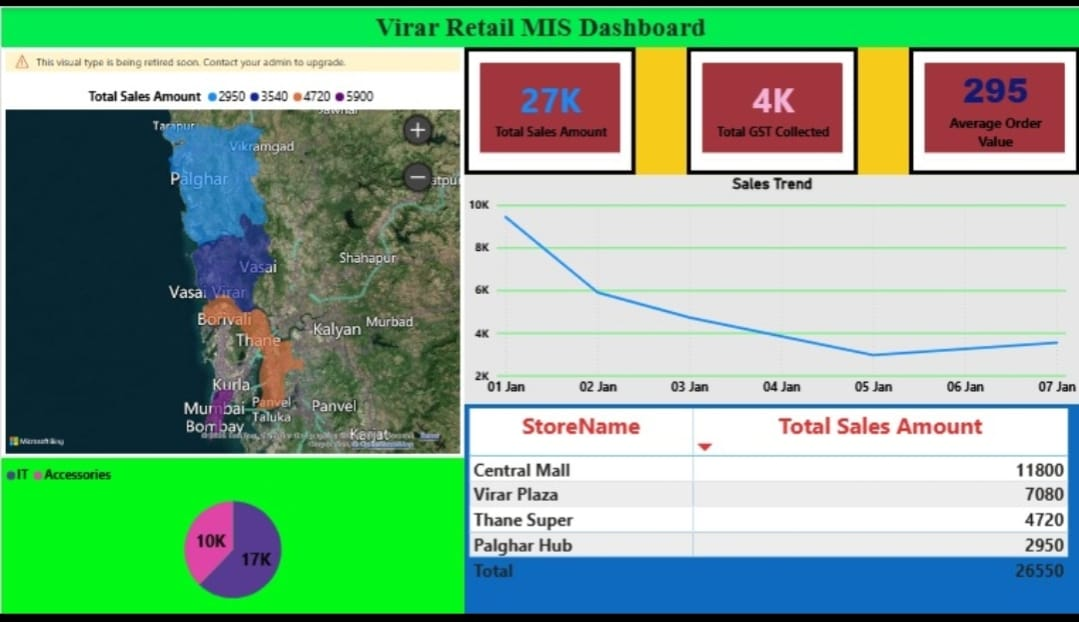

This screenshot's page, from the dashboard's own definition file:
{"tool":"powerbi","page":{"name":"Page 1","canvas":[1280,720],"ordinal":0},"visuals":[{"type":"textbox","box":[0,0,1280,47],"z":0},{"type":"cardVisual","fields":{"Data":["Sum(Sheet1.TotalAmount)"]},"box":[549.3,47,203.3,151.2],"z":1000},{"type":"cardVisual","fields":{"Data":["Sheet1.Average Order Value"]},"box":[1076.7,47,203.3,151.2],"z":2000},{"type":"cardVisual","fields":{"Data":["Sum(Sheet1.GST_Amount)"]},"box":[813,47,203.3,151.2],"z":3000},{"type":"filledMap","fields":{"Category":["Sheet3.City"],"Series":["Sheet1.TotalAmount"]},"box":[0,47,549.3,487.1],"z":4000},{"type":"pieChart","fields":{"Category":["Sheet2.Category"],"Y":["Sum(Sheet1.TotalAmount)"]},"box":[0,534.2,549.3,186.5],"z":5000},{"type":"lineChart","title":"Sales Trend","fields":{"Y":["Sum(Sheet1.TotalAmount)"],"Category":["Sheet1.Date"]},"box":[549.3,198.2,730.7,272.1],"z":6000},{"type":"tableEx","fields":{"Values":["Sheet3.StoreName","Sum(Sheet1.TotalAmount)"]},"box":[549.3,470.3,730.7,250.3],"z":7000}]}

Visuals, with their boxes in screenshot pixels (x1, y1, x2, y2), scaled from the page's 1280x720 canvas onto the 1079x622 screenshot:
textbox: {"x1": 0, "y1": 0, "x2": 1078, "y2": 41}
cardVisual - Sum(Sheet1.TotalAmount): {"x1": 463, "y1": 41, "x2": 634, "y2": 171}
cardVisual - Sheet1.Average Order Value: {"x1": 908, "y1": 41, "x2": 1078, "y2": 171}
cardVisual - Sum(Sheet1.GST_Amount): {"x1": 685, "y1": 41, "x2": 857, "y2": 171}
filledMap - Sheet3.City x Sheet1.TotalAmount: {"x1": 0, "y1": 41, "x2": 463, "y2": 461}
pieChart - Sheet2.Category x Sum(Sheet1.TotalAmount): {"x1": 0, "y1": 461, "x2": 463, "y2": 621}
"Sales Trend" lineChart: {"x1": 463, "y1": 171, "x2": 1078, "y2": 406}
tableEx - Sheet3.StoreName x Sum(Sheet1.TotalAmount): {"x1": 463, "y1": 406, "x2": 1078, "y2": 621}
